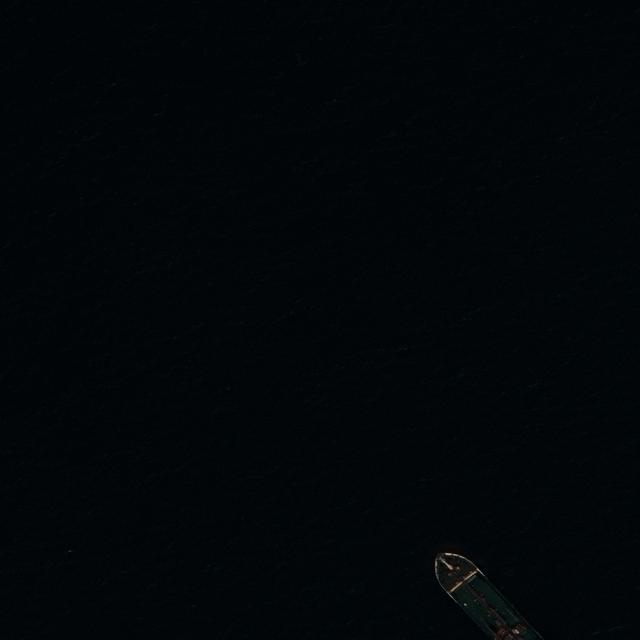Oil Tanker: (434, 553, 542, 640)
